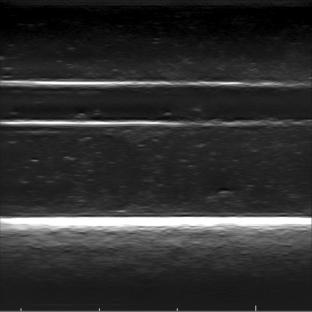vessel: (0, 79, 312, 128)
